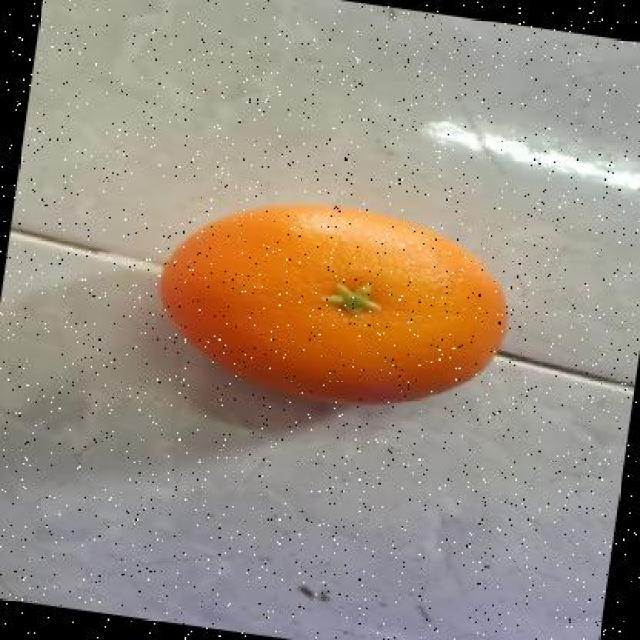Orange: (157, 202, 509, 406)
